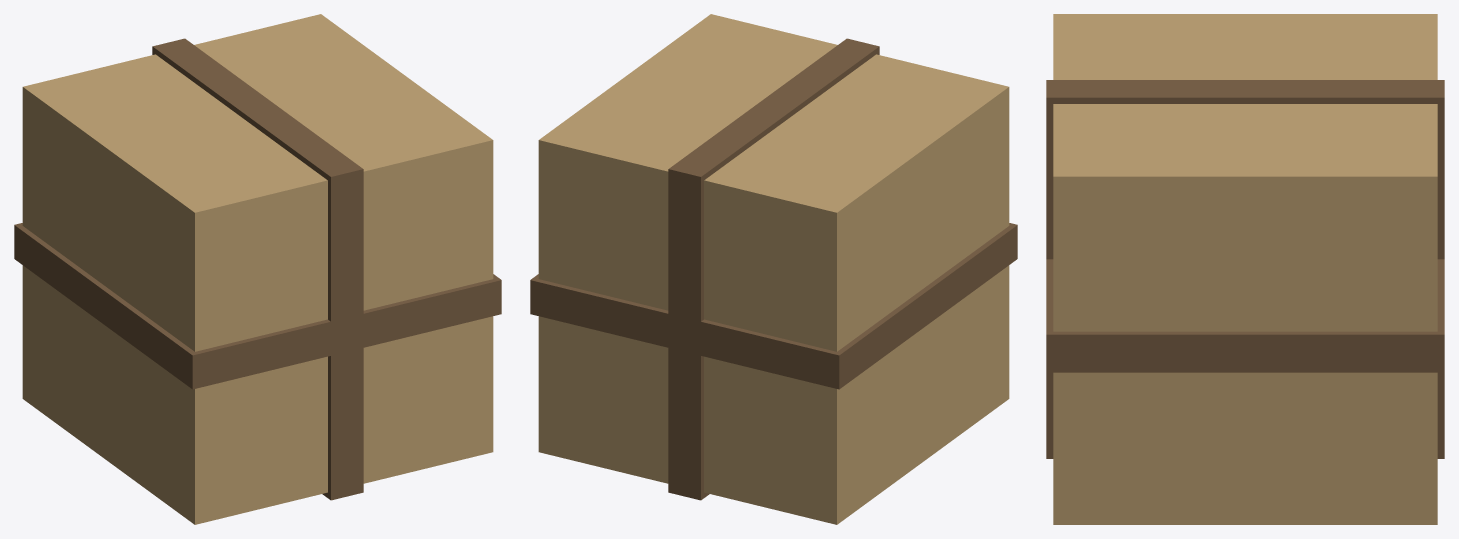
The model's file is crate.glb.
The picture shows the model from 3 angles, left to right: view 1: azimuth 30°, elevation 25°; view 2: azimuth 150°, elevation 25°; view 3: azimuth 270°, elevation 25°; orthographic projection. The views are drawn at different scales.
Visible parts, largest first — view 1: crate_0, crate_1, crate_2; view 2: crate_0, crate_1, crate_2; view 3: crate_0, crate_1, crate_2.
Boxes of the visible parts, left/top/right/bottom form: crate_0: left=22, top=14, right=493, bottom=524; crate_1: left=14, top=223, right=501, bottom=389; crate_2: left=152, top=38, right=363, bottom=500; crate_0: left=538, top=14, right=1009, bottom=524; crate_1: left=530, top=223, right=1017, bottom=389; crate_2: left=668, top=38, right=879, bottom=500; crate_0: left=1053, top=14, right=1437, bottom=524; crate_1: left=1046, top=259, right=1444, bottom=372; crate_2: left=1046, top=80, right=1444, bottom=458.
Size of the model in its own units: 0.57 by 0.57 by 0.57.
